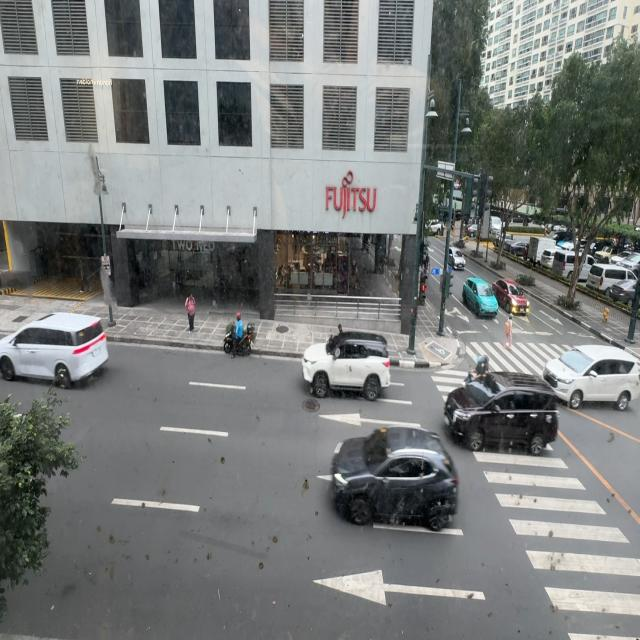crossing: (504, 313, 514, 348)
pedestrain: (185, 294, 195, 334)
